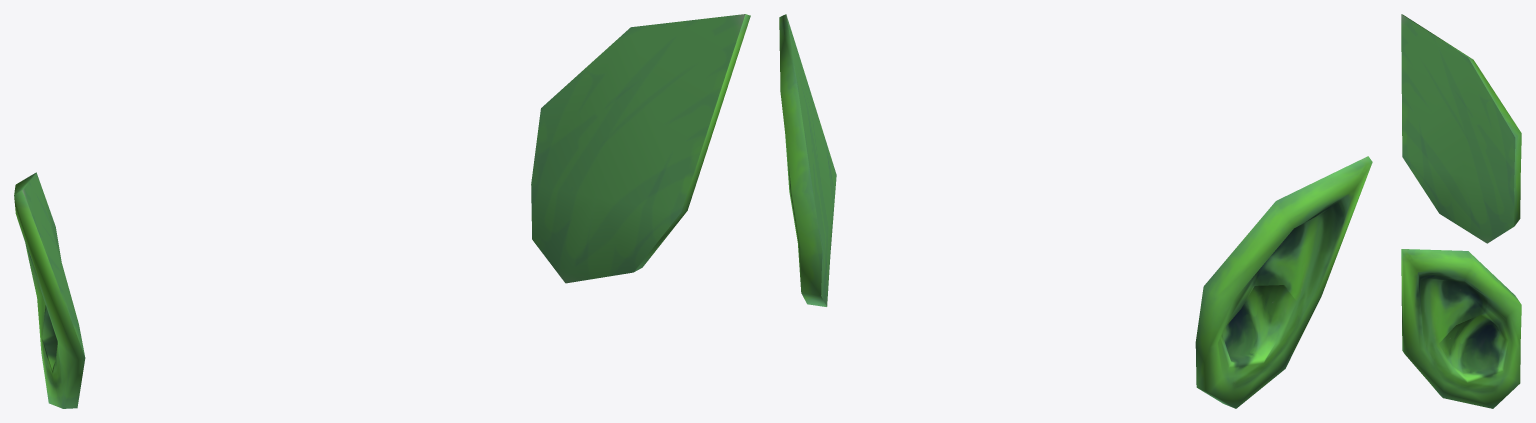
File: Props_GoblinEars.fbx
3 views of the same model, side by side, from view 1: azimuth 30°, elevation 25°; view 2: azimuth 150°, elevation 25°; view 3: azimuth 270°, elevation 25° (orthographic). The views are drawn at different scales.
Parts seen in each view (by area): view 1: GoblinEarRight, GoblinEarLeft; view 2: GoblinEarLeft, GoblinEarRight; view 3: GoblinEarLeft, GoblinEarRight.
Part boxes in pixels (<box>): GoblinEarRight: <box>531,14,750,283</box>; GoblinEarLeft: <box>14,172,85,408</box>; GoblinEarLeft: <box>1195,156,1372,408</box>; GoblinEarRight: <box>779,14,836,306</box>; GoblinEarLeft: <box>1401,14,1521,243</box>; GoblinEarRight: <box>1401,249,1521,408</box>.
Bounding box in the file's own units: 23.17 × 8.67 × 4.93.
